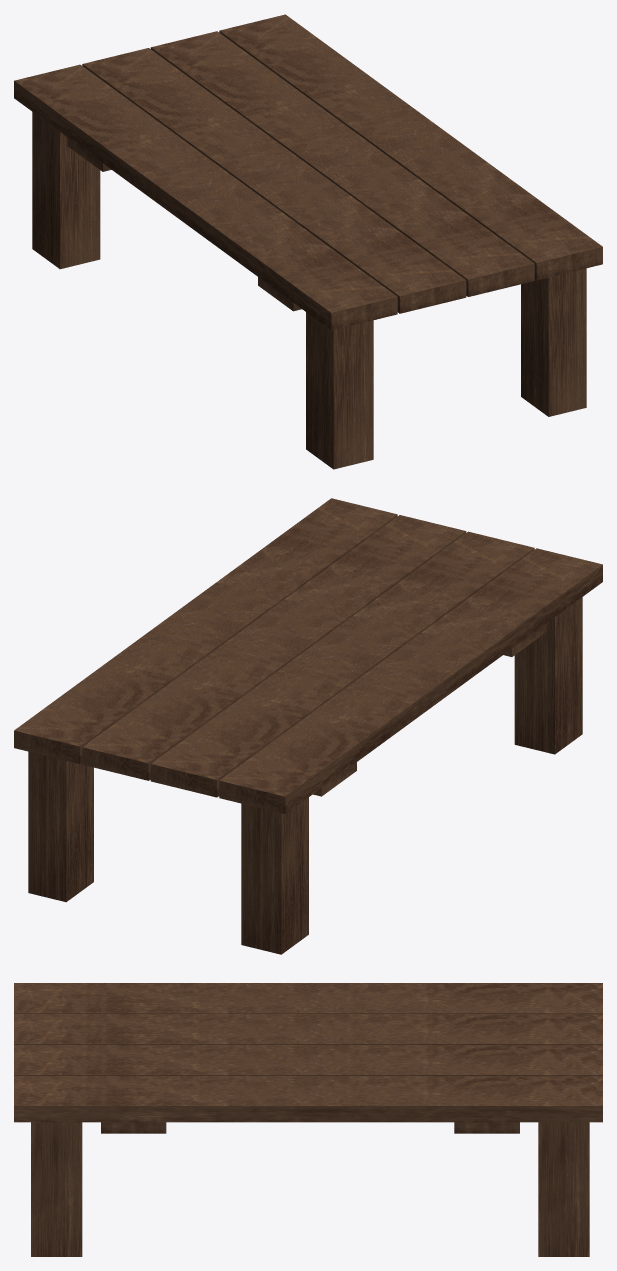
File: TABLE2.fbx
3 views of the same model, one above another, from view 1: azimuth 30°, elevation 25°; view 2: azimuth 150°, elevation 25°; view 3: azimuth 270°, elevation 25° (orthographic). The views are drawn at different scales.
Parts seen in each view (by area): view 1: Table; view 2: Table; view 3: Table.
Boxes of the visible parts, x1,y1,x2,y2 form: Table: (14, 14, 602, 469); Table: (14, 498, 602, 954); Table: (14, 983, 602, 1256).
Bounding box in the file's own units: 75 × 43.79 × 152.
